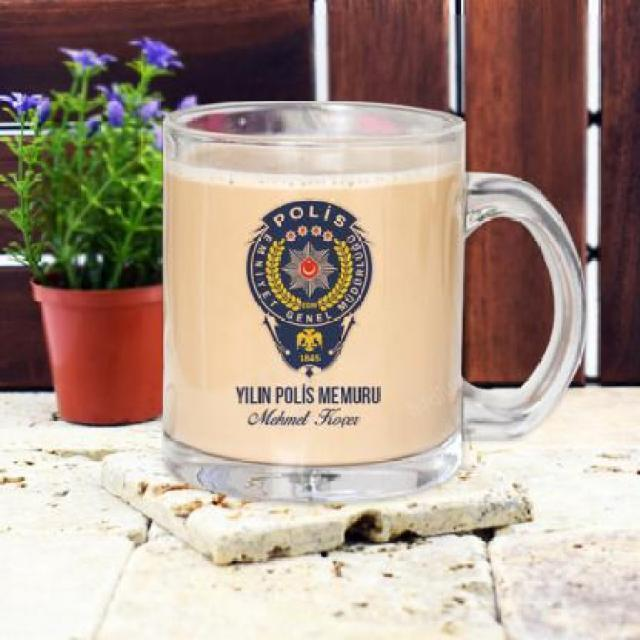taza: (163, 100, 586, 503)
